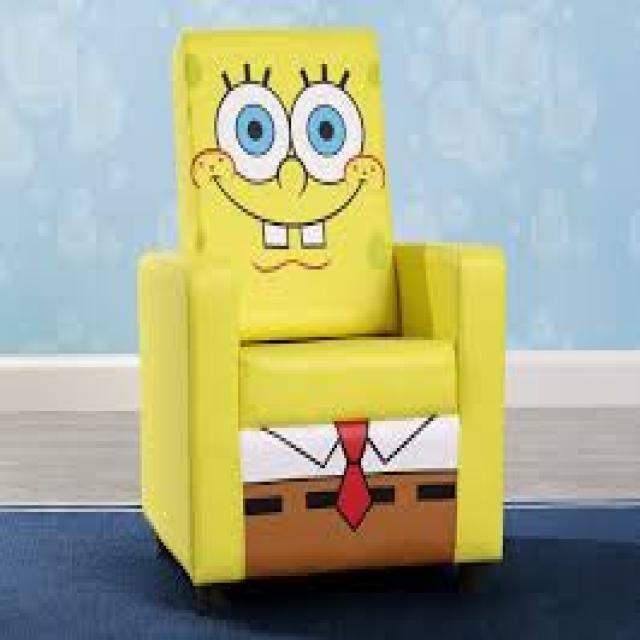chair: (108, 1, 502, 640)
